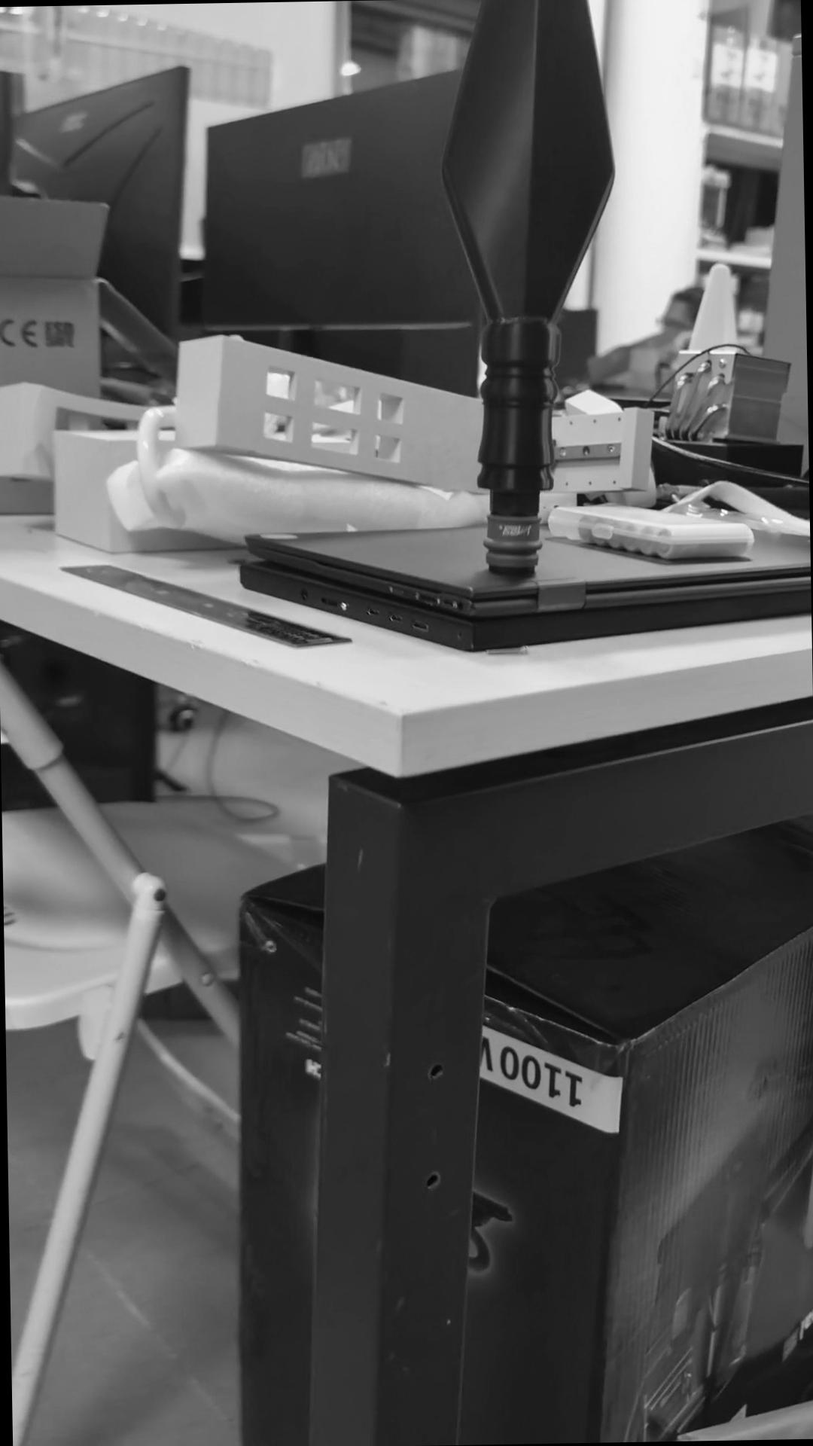base: (480, 508, 549, 590)
